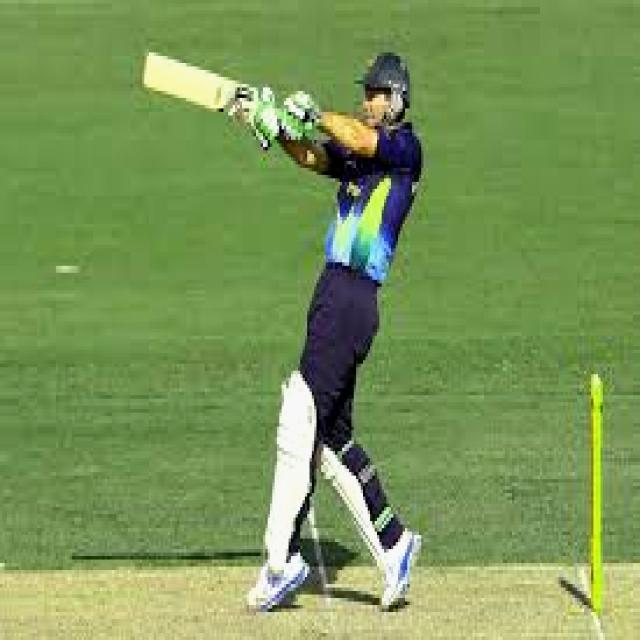toe: (140, 52, 151, 90)
